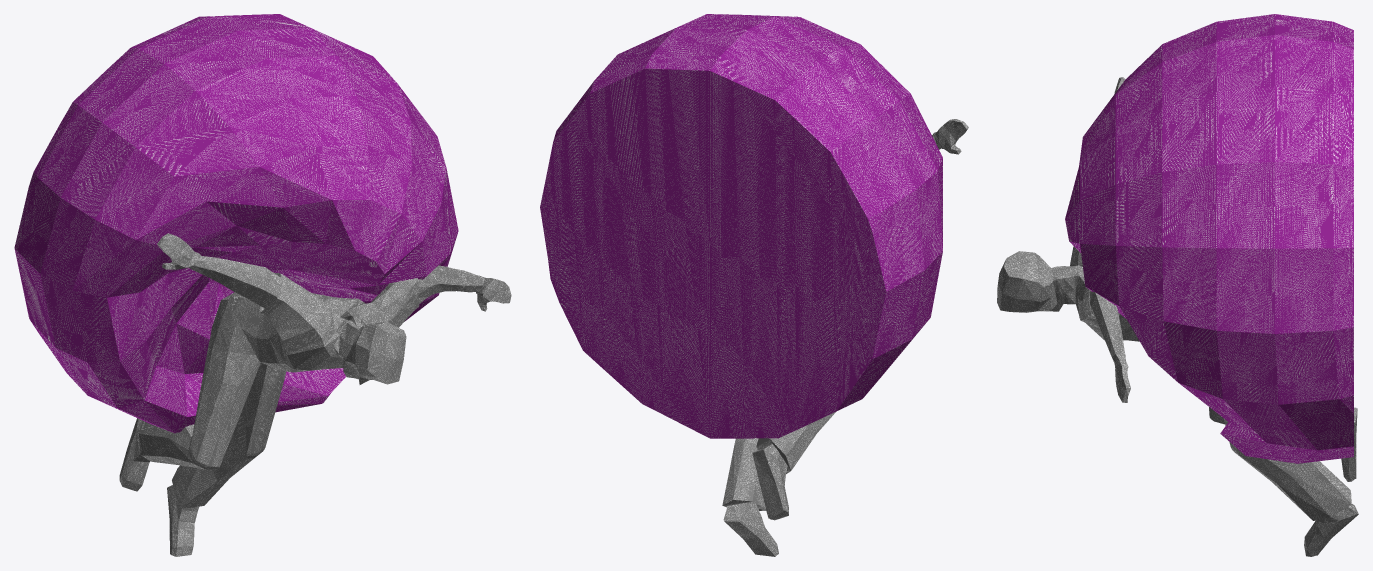
3 views of the same model, side by side, from view 1: azimuth 30°, elevation 25°; view 2: azimuth 150°, elevation 25°; view 3: azimuth 270°, elevation 25° (orthographic). The views are drawn at different scales.
Parts seen in each view (by area): view 1: man sitting in a beanbag chair; view 2: man sitting in a beanbag chair; view 3: man sitting in a beanbag chair.
Boxes of the visible parts, x1,y1,x2,y2 form: man sitting in a beanbag chair: (14,14,511,556); man sitting in a beanbag chair: (540,14,968,556); man sitting in a beanbag chair: (997,14,1358,556).
Bounding box in the file's own units: 66.29 × 85.48 × 52.23.
